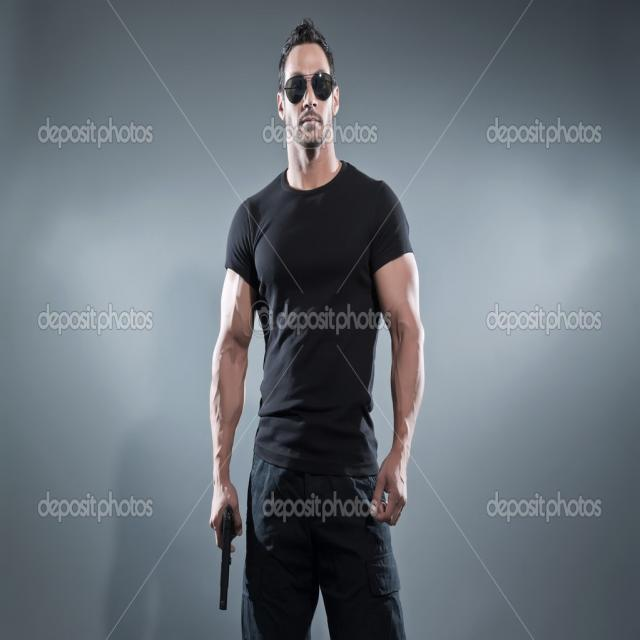gun: (192, 480, 252, 613)
